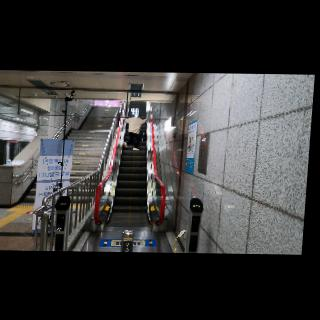normal: (120, 113, 151, 151)
